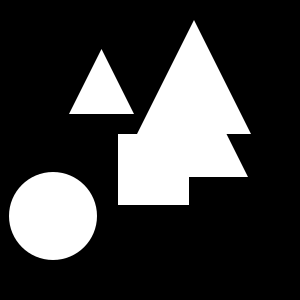circle: (118, 134, 189, 205)
rectangle: (9, 172, 97, 260)
triangle: (126, 55, 248, 177), (137, 20, 251, 134), (69, 49, 134, 114)
